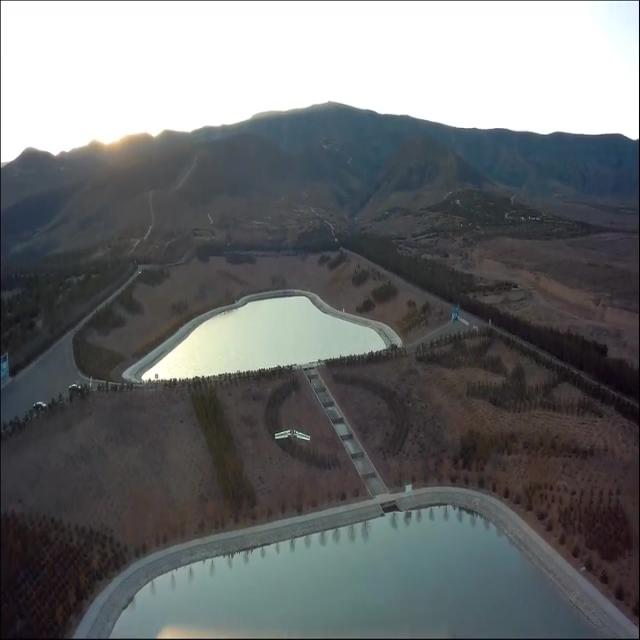iha: (274, 427, 311, 444)
